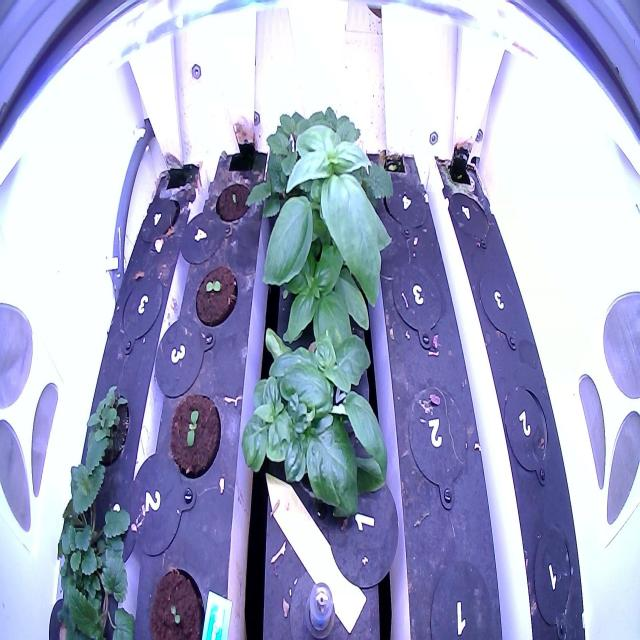empty_pod: (402, 376, 474, 516), (423, 545, 497, 638), (500, 376, 555, 492), (528, 521, 580, 639), (387, 254, 448, 354), (475, 261, 525, 357), (114, 264, 168, 346), (380, 173, 432, 245), (444, 181, 494, 252), (135, 190, 181, 248)
germination: (163, 386, 223, 484), (144, 559, 208, 639), (190, 259, 240, 333)
pod: (212, 180, 254, 230)
